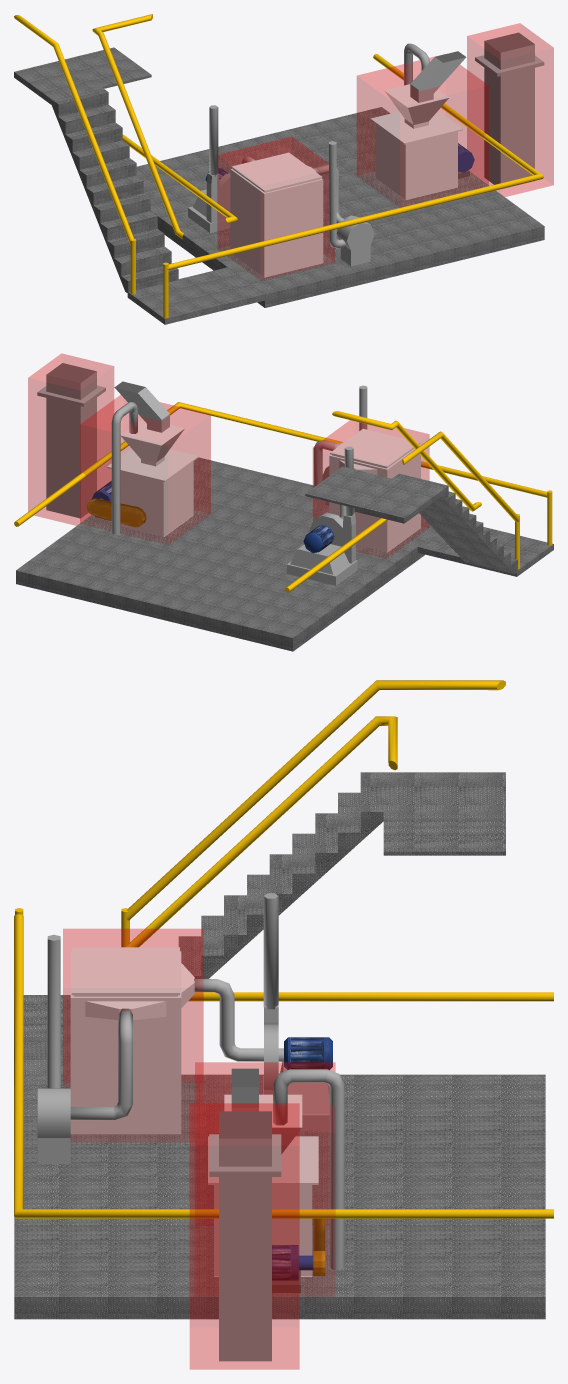
The model's file is NST-2.2F.glb.
The picture shows the model from 3 angles, top to bottom: view 1: azimuth 30°, elevation 25°; view 2: azimuth 150°, elevation 25°; view 3: azimuth 270°, elevation 25°; orthographic projection. The views are drawn at different scales.
Parts seen in each view (by area): view 1: floor-Box048, equipment-2M-dm-407, StraightStair039, equipment-2M-bf-415R, equi-2M-bf-415F, equipment-2M-be-406, 2M-be-406, 2M, equi-2M-bf-415F (1), pipe-2M-bf-415F, pipe-2M-bf-415F (1); view 2: floor-Box048, equipment-2M-dm-407, equipment-2M-be-406, 2M-be-406, StraightStair039, equi-2M-bf-415F, equi-2M-bf-415F (1), equipment-2M-bf-415R, 2M, pipe-2M-bf-415F (1), pipe-2M-bf-415F; view 3: floor-Box048, equipment-2M-be-406, equipment-2M-bf-415R, equi-2M-bf-415F, StraightStair039, 2M, 2M-be-406, equipment-2M-dm-407, equi-2M-bf-415F (1), pipe-2M-bf-415F, pipe-2M-bf-415F (1).
Part boxes in pixels (x1=…): floor-Box048: x1=127, y1=107, x2=544, y2=324; equipment-2M-dm-407: x1=357, y1=56, x2=488, y2=206; StraightStair039: x1=14, y1=47, x2=178, y2=292; equipment-2M-bf-415R: x1=217, y1=137, x2=334, y2=280; equi-2M-bf-415F: x1=188, y1=152, x2=374, y2=277; equipment-2M-be-406: x1=467, y1=23, x2=553, y2=196; 2M-be-406: x1=410, y1=32, x2=544, y2=189; 2M: x1=14, y1=14, x2=543, y2=318; equi-2M-bf-415F (1): x1=370, y1=84, x2=474, y2=200; pipe-2M-bf-415F: x1=209, y1=105, x2=346, y2=248; pipe-2M-bf-415F (1): x1=404, y1=43, x2=429, y2=85; floor-Box048: x1=16, y1=457, x2=553, y2=651; equipment-2M-dm-407: x1=80, y1=395, x2=210, y2=544; equipment-2M-be-406: x1=28, y1=353, x2=113, y2=525; 2M-be-406: x1=37, y1=363, x2=169, y2=518; StraightStair039: x1=305, y1=466, x2=517, y2=574; equi-2M-bf-415F: x1=286, y1=428, x2=420, y2=585; equi-2M-bf-415F (1): x1=86, y1=419, x2=198, y2=537; equipment-2M-bf-415R: x1=313, y1=420, x2=429, y2=558; 2M: x1=14, y1=402, x2=552, y2=592; pipe-2M-bf-415F (1): x1=111, y1=402, x2=137, y2=534; pipe-2M-bf-415F: x1=313, y1=385, x2=367, y2=519; floor-Box048: x1=14, y1=995, x2=545, y2=1319; equipment-2M-be-406: x1=190, y1=1103, x2=299, y2=1369; equipment-2M-bf-415R: x1=63, y1=929, x2=203, y2=1141; equi-2M-bf-415F: x1=37, y1=947, x2=332, y2=1163; StraightStair039: x1=178, y1=772, x2=505, y2=978; 2M: x1=14, y1=680, x2=553, y2=1218; 2M-be-406: x1=209, y1=1068, x2=281, y2=1361; equipment-2M-dm-407: x1=195, y1=1062, x2=335, y2=1295; equi-2M-bf-415F (1): x1=208, y1=1094, x2=325, y2=1292; pipe-2M-bf-415F: x1=47, y1=893, x2=283, y2=1120; pipe-2M-bf-415F (1): x1=273, y1=1069, x2=344, y2=1269.
Bounding box in the file's own units: 6.78 × 3.04 × 4.4.
9 materials, 3 textured.
